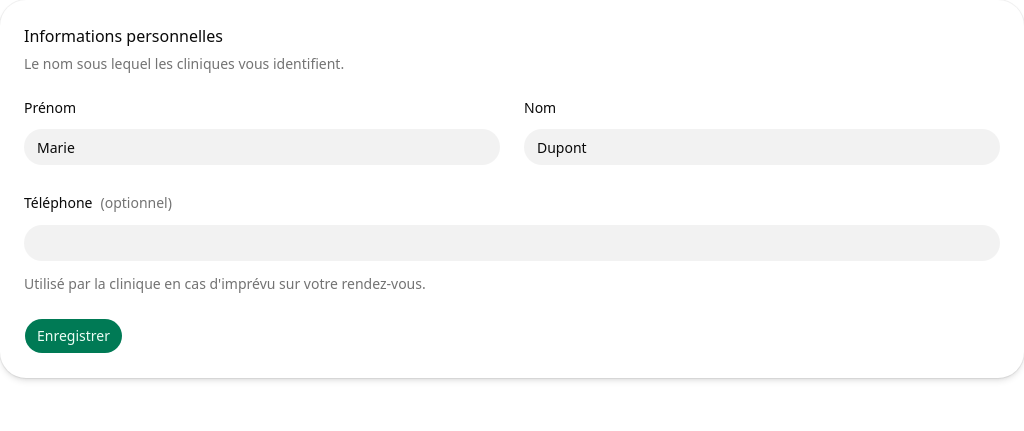
Test case: PersonalInfoForm › refuse un prénom vide, sans rien envoyer
Clear the field labelled "Prénom" at coordinates (262, 147), box [24,129,500,165]
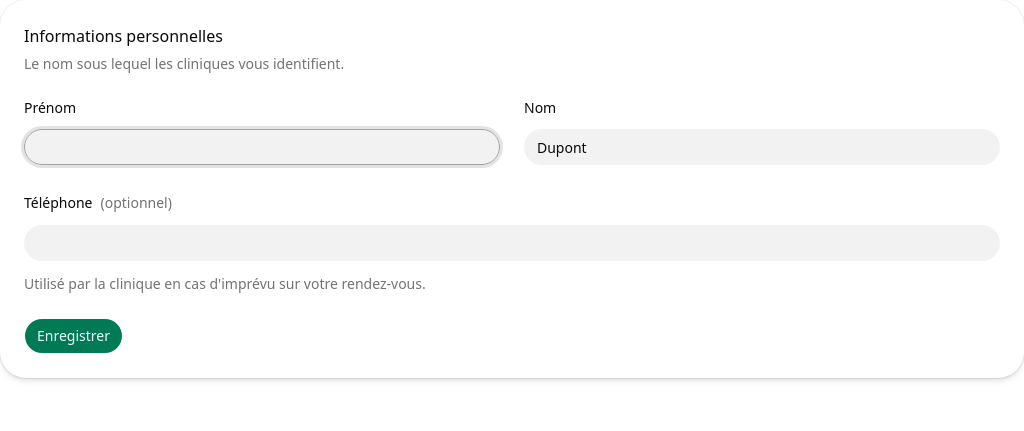
Click the button "Enregistrer" at coordinates (74, 336), box [24,318,123,354]
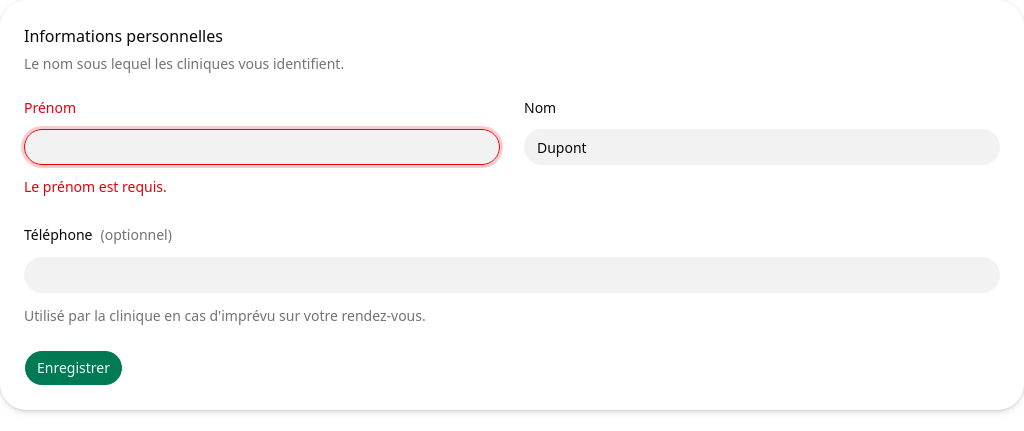
Result: the text "Le prénom est requis." is shown at [24,177,167,196]
